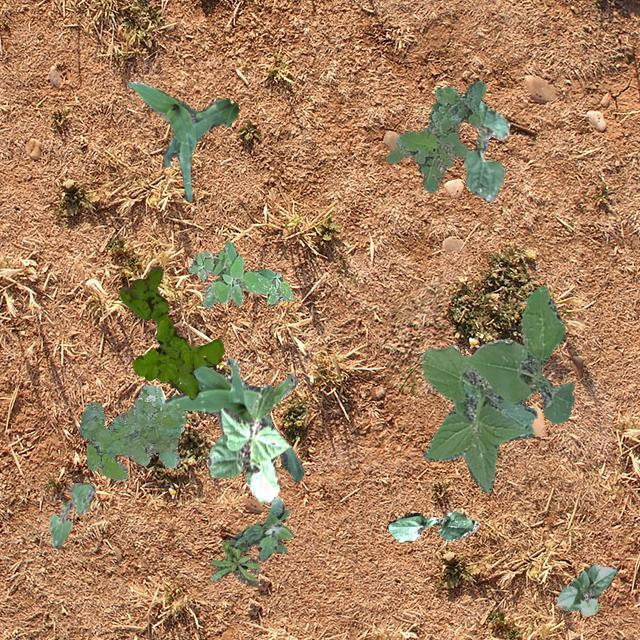crop: (164, 354, 304, 480), (126, 80, 236, 200), (206, 382, 290, 502), (462, 100, 508, 200), (386, 509, 478, 542), (556, 564, 616, 614), (49, 482, 94, 546)
weed: (422, 284, 572, 492), (119, 264, 222, 398), (386, 80, 486, 192), (78, 384, 184, 479), (188, 240, 292, 306), (226, 496, 292, 560), (210, 540, 260, 586)
